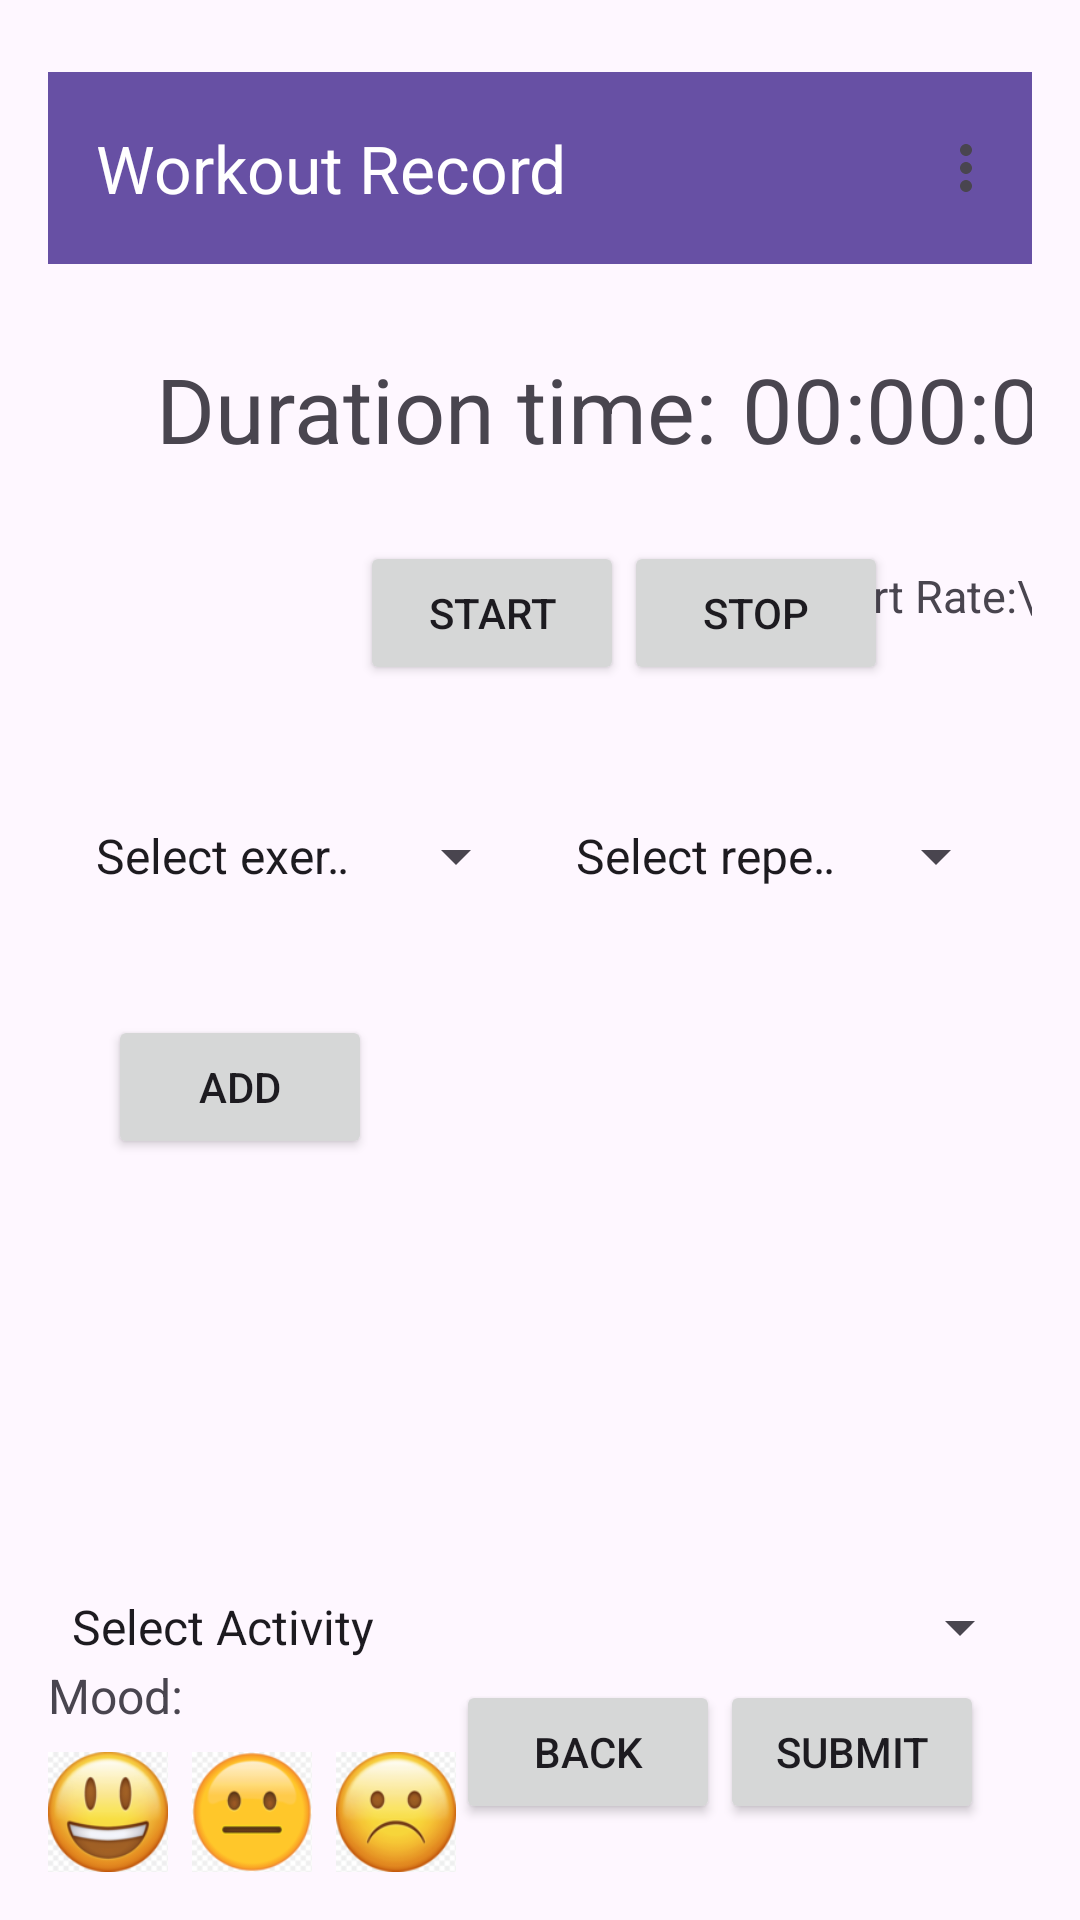

Icon bounding boxes for this 1080 × 1920 phone screenshot, format (x1, y1, x2, y2):
bad: (336, 1752, 456, 1872)
happy: (48, 1752, 168, 1872)
neutral: (193, 1753, 311, 1871)
